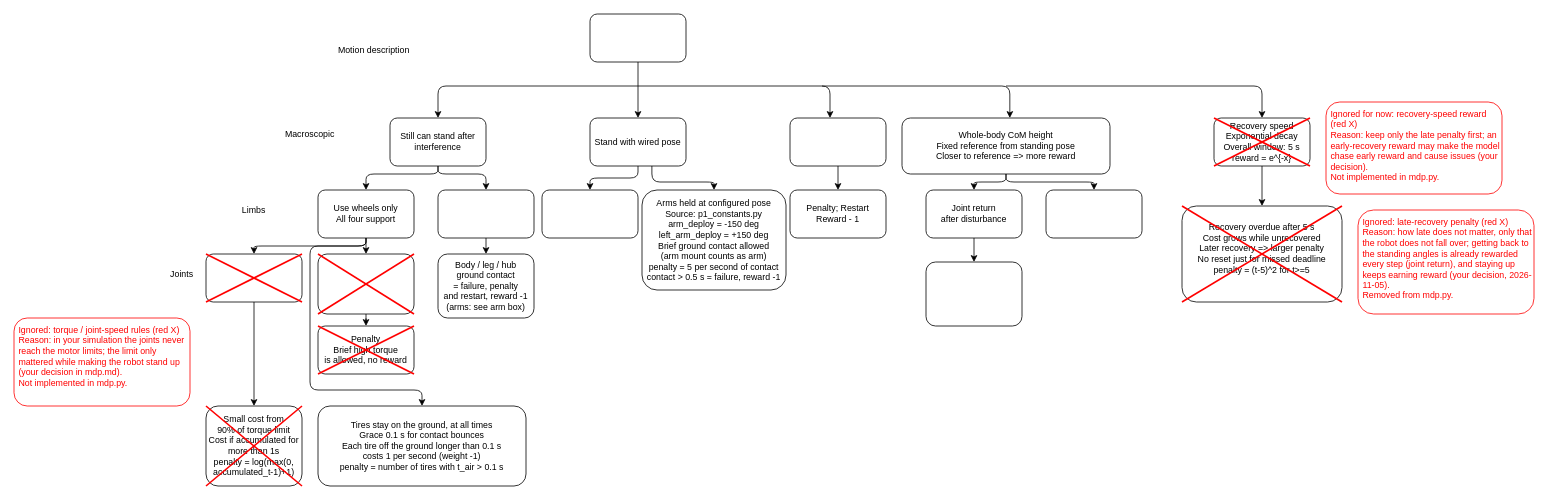
Some shapes in this 1548 by 502 pixel diagram are drawn without their labels. Each missing label, with the centre of its shape:
All 12 leg joints Return to reference Temporary corrections allowed reward + 1: the point at 973,293
At limit continuously for 5 s => large penalty penalty = e^(t-5)-1 clamp1: the point at 365,283
Contain non-wheel limbs for supporting: the point at 485,213
Fell over: the point at 837,141
Maintain CoM height by leg adjustment Reward +1: the point at 1093,213
Penalty: Body upright at IMU; gravity down along z reward = 1-(z/9.81+1)^2: the point at 589,213
Task: Stand under disturbance Recover pose / height: the point at 637,37
Torque / joint speed within motor limits See motors.txt: the point at 253,277
